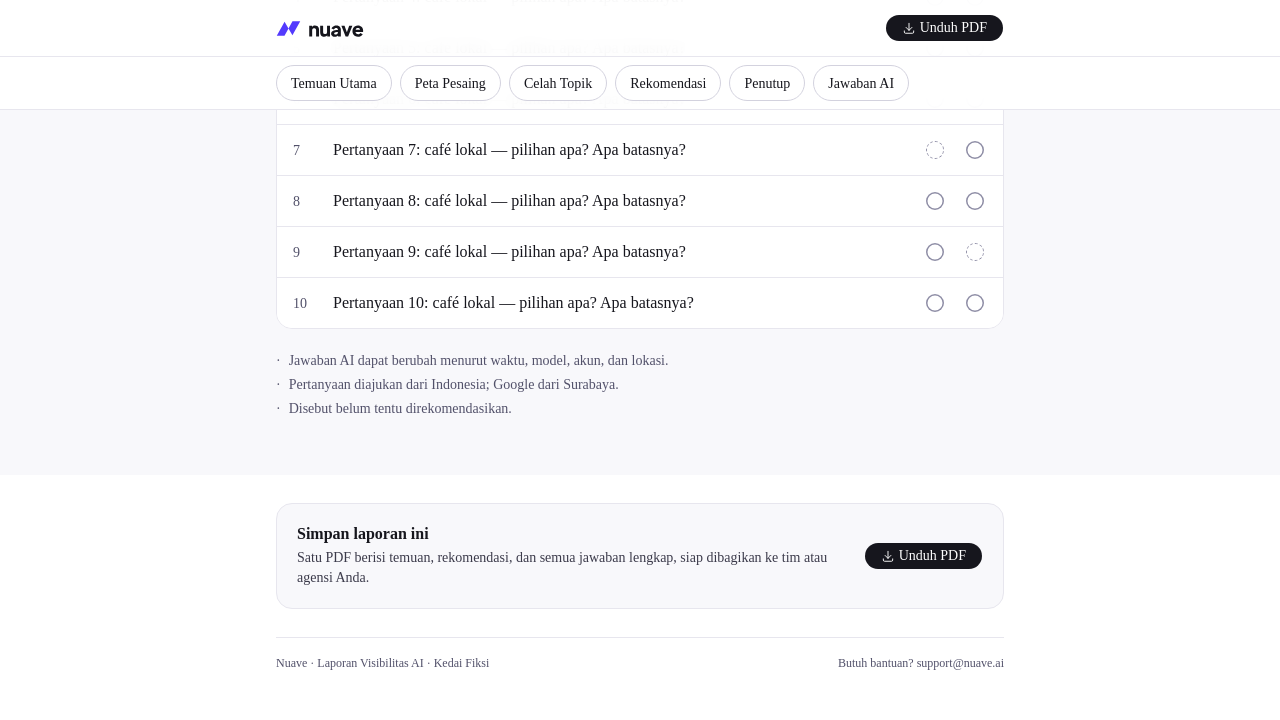
Unduh PDF (Part P) › a failure shows the retry message next to the button pressed; Coba lagi asks again
The width and height of the screenshot is (1280, 720).
(page scrolled)
Click the 2nd button "Unduh PDF".
click(923, 556)  # box [864,542,983,570]
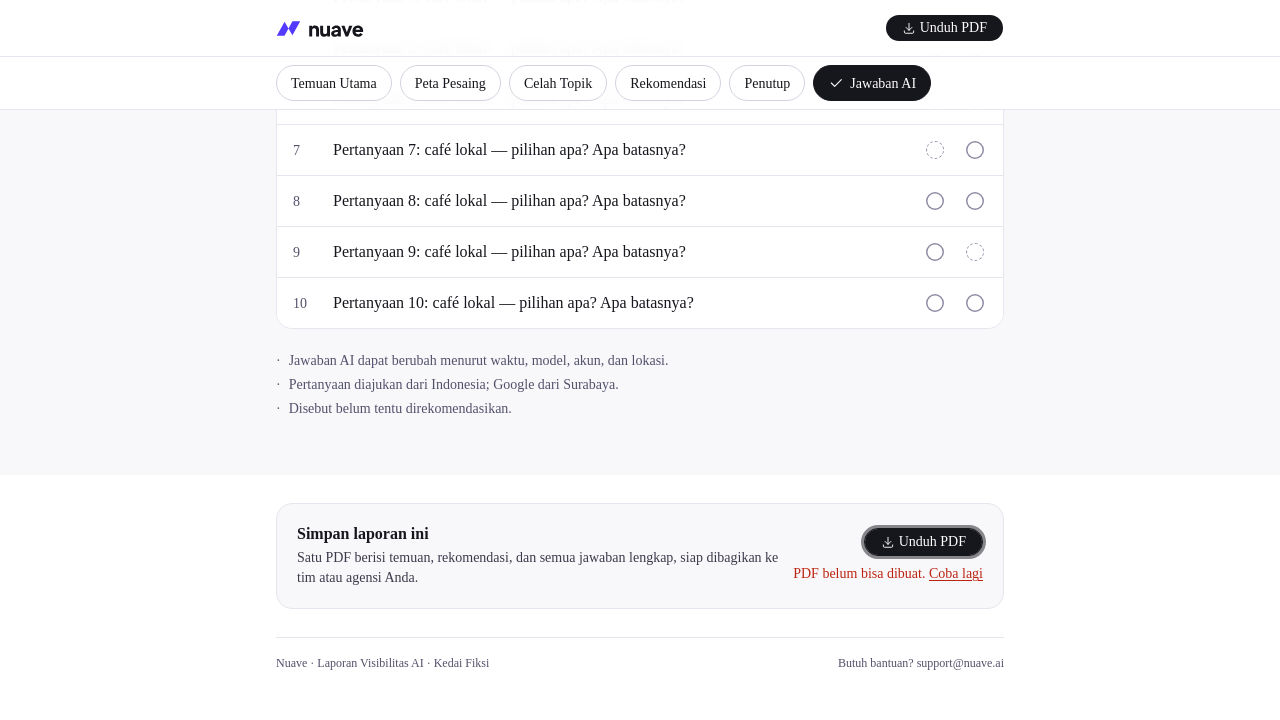
Check: the message reads "PDF belum bisa dibuat. Coba lagi", box [793,564,983,584]
Check: the number of messages is 1, box [793,564,983,584]
Click the button "Coba lagi".
click(956, 574)  # box [929,564,983,584]
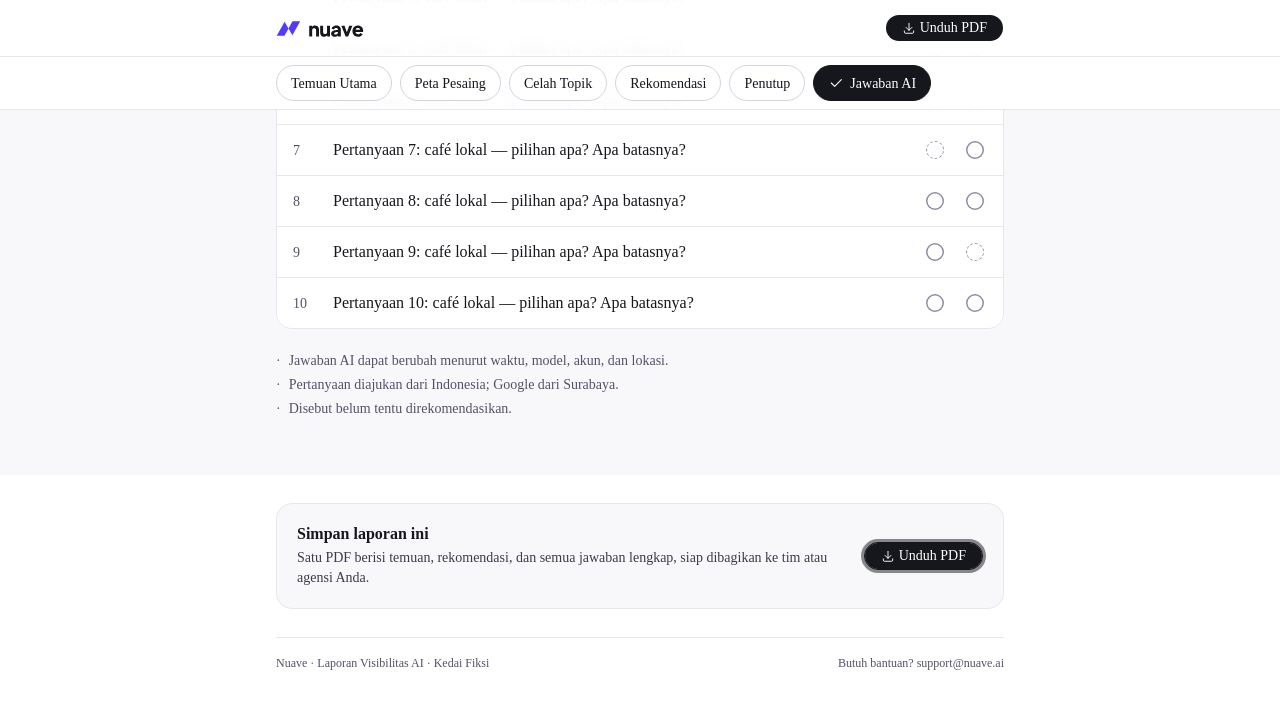
Check: the message "PDF belum bisa dibuat. Coba lagi" is gone
